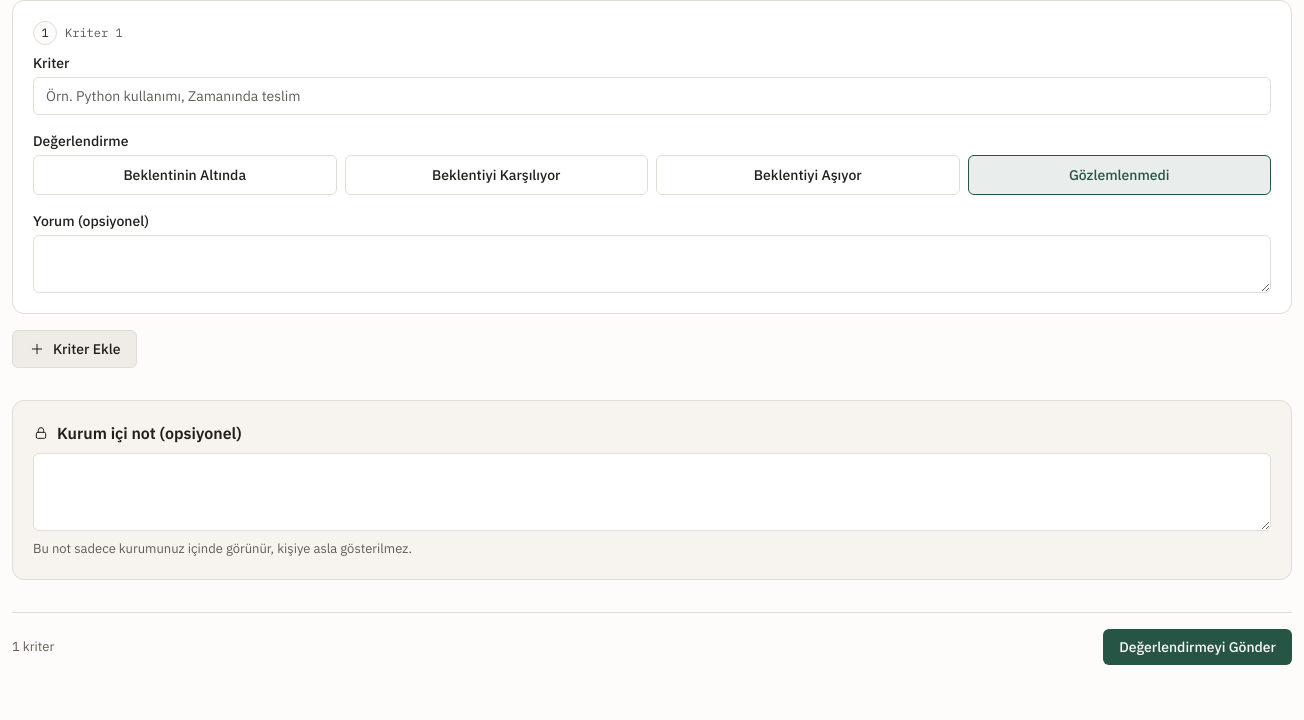
Test: EvaluationForm › 409 CONFLICT hatasında (zaten değerlendirilmiş veya durum değişmiş) uygun mesaj gösterilir
Type "X" into the field labelled "Kriter" at (652, 96), box left=33, top=77, right=1271, bottom=115
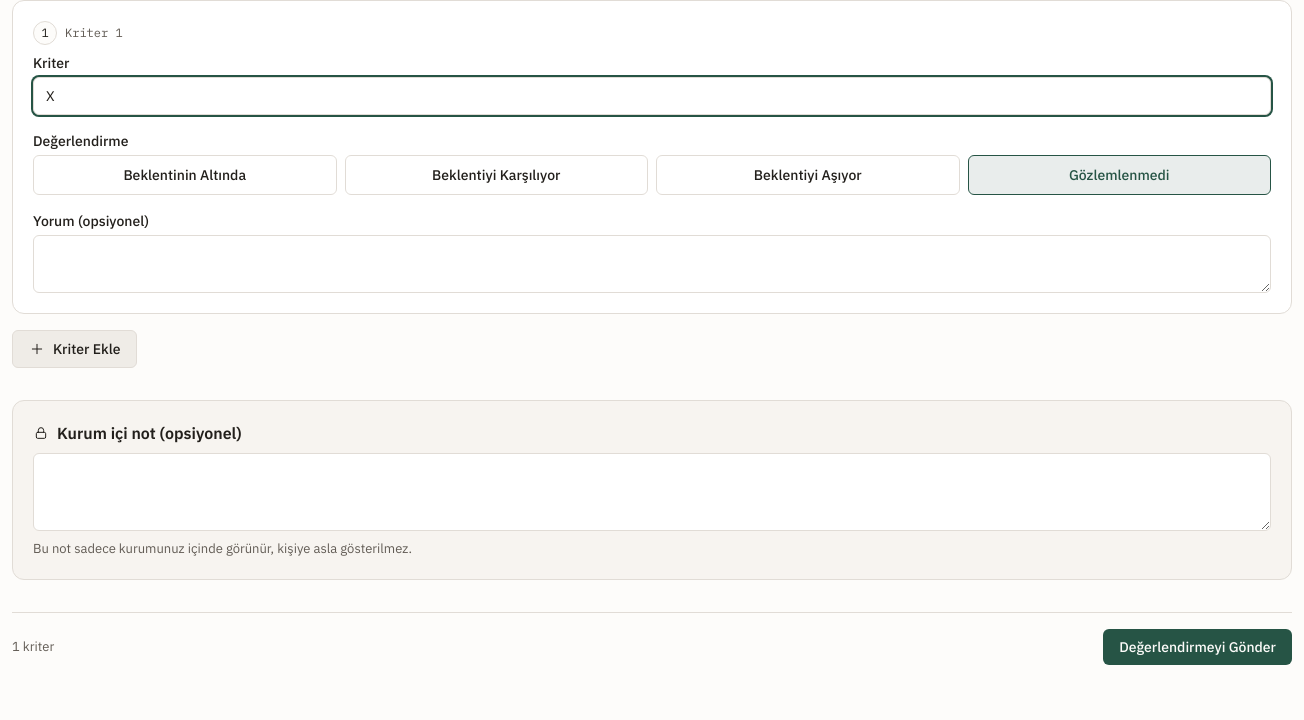
Click the button "Değerlendirmeyi Gönder" at (1198, 646), box left=1103, top=628, right=1292, bottom=664
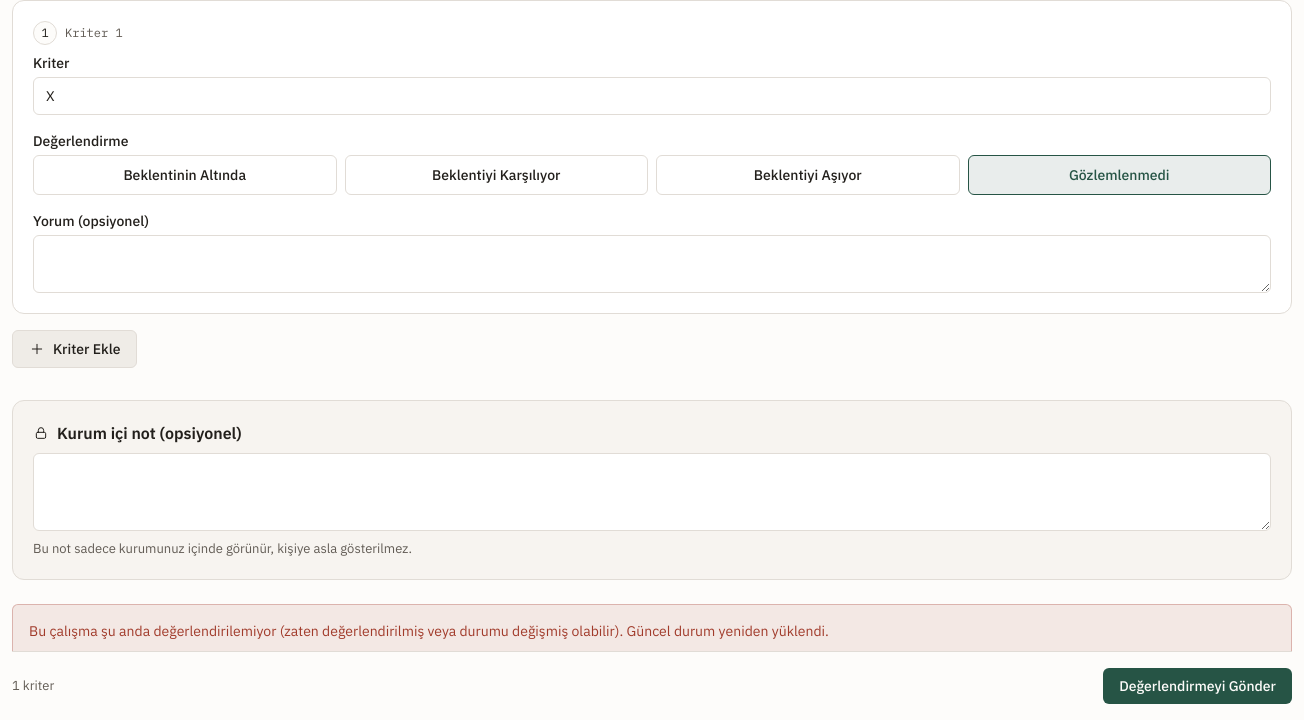
Check: the text "Bu çalışma şu anda değerlendirilemiyor (zaten değerlendirilmiş veya durumu değişmiş olabilir). Güncel durum yeniden yükl" is shown, box left=29, top=622, right=829, bottom=640
